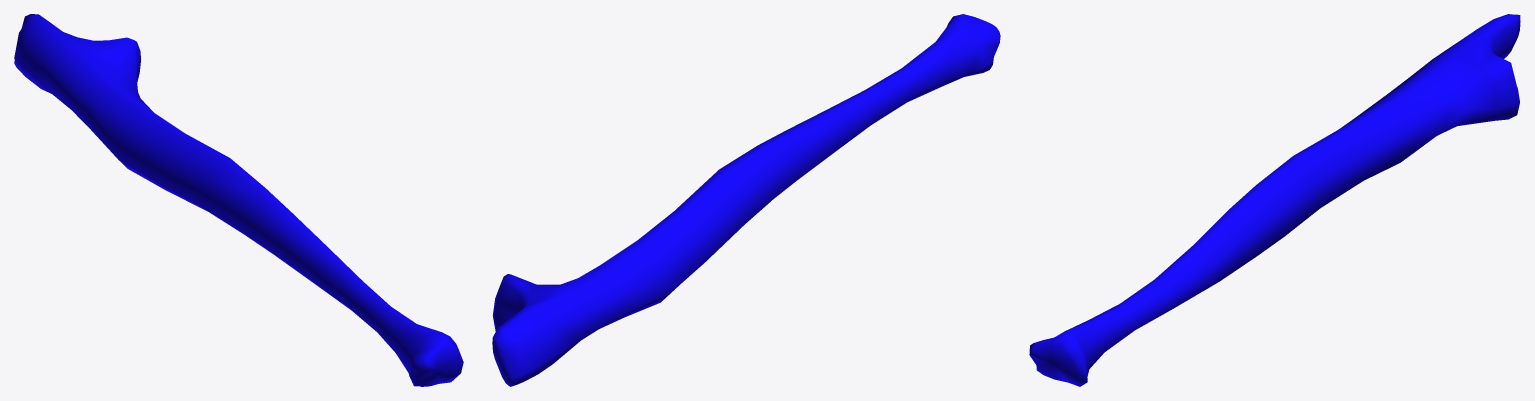
Rendered from SM_L_Radius.FBX.
3 renders of one model, left to right at view 1: azimuth 30°, elevation 25°; view 2: azimuth 150°, elevation 25°; view 3: azimuth 330°, elevation 25°, orthographic. The views are drawn at different scales.
Parts seen in each view (by area): view 1: L_Radius; view 2: L_Radius; view 3: L_Radius.
Part boxes in pixels (left/top/right/bottom): L_Radius: left=14, top=14, right=463, bottom=386; L_Radius: left=492, top=14, right=1000, bottom=386; L_Radius: left=1029, top=14, right=1520, bottom=386.
Bounding box in the file's own units: 4.56 × 2.7 × 33.44.
